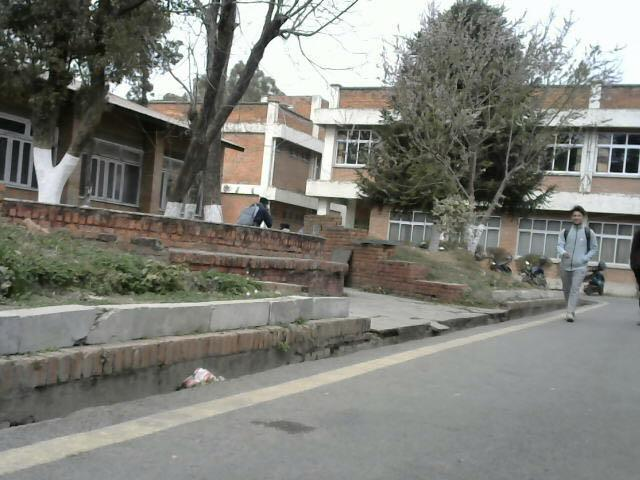Building: (210, 82, 375, 196), (542, 72, 639, 190)
Person: (552, 199, 597, 333)
Road: (33, 293, 640, 480)
Tree: (5, 0, 158, 193)
